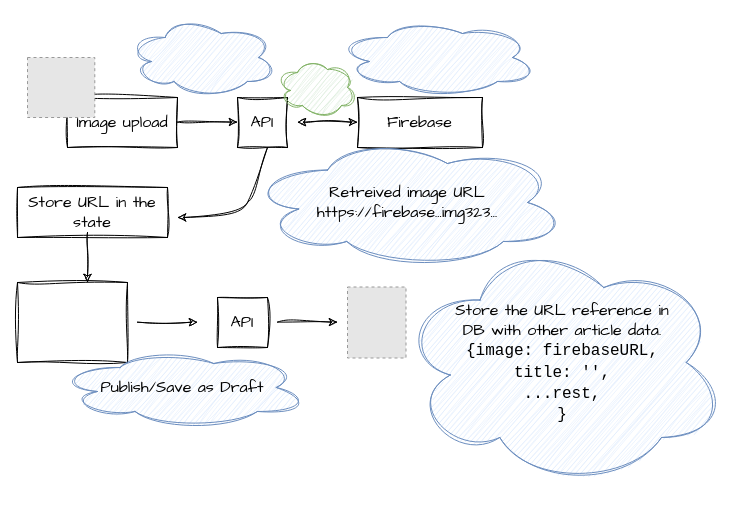
Some shapes in this 745 by 505 pixel diagram are drawn without their labels. Grey dashed boxes stand in for pictures. Here are the shapes that lost their labels. From the top down, the box of each, then its label:
(126, 16, 278, 98): Validation ...
(336, 16, 538, 98): Connect & upload
(276, 56, 358, 118): All OK
(16, 282, 128, 362): Ready to save work?
